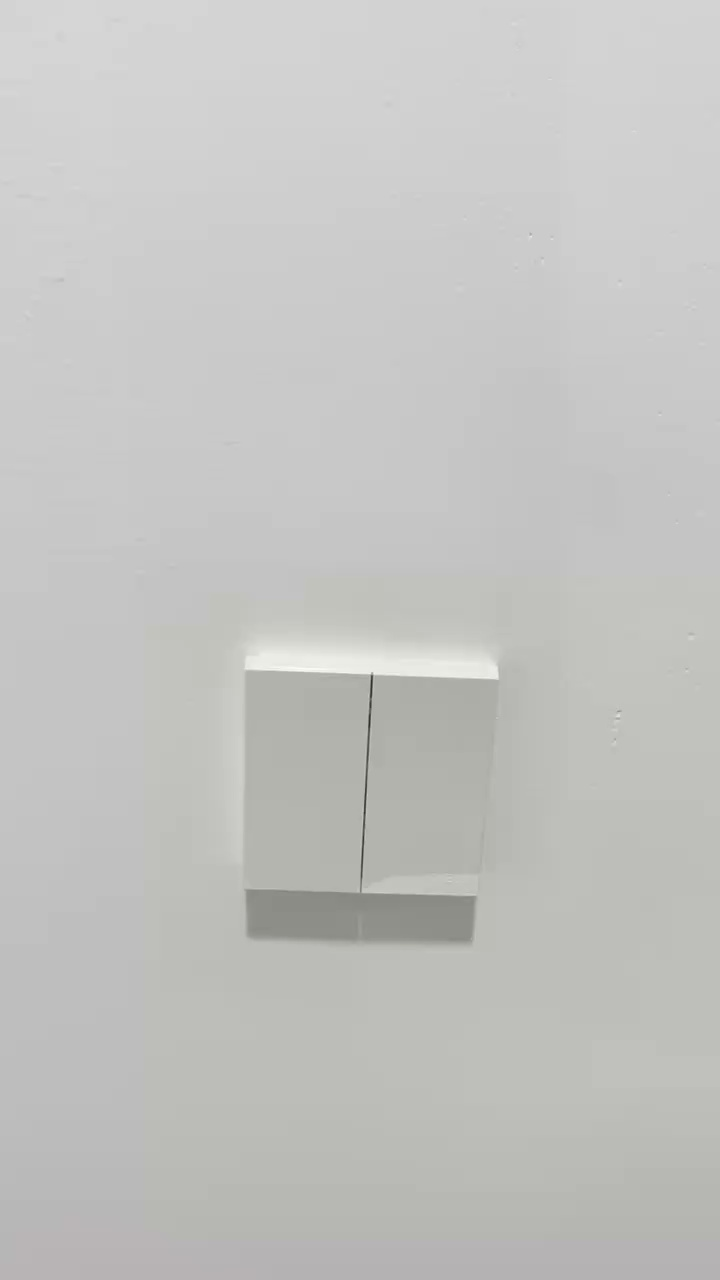button: (236, 659, 500, 905)
